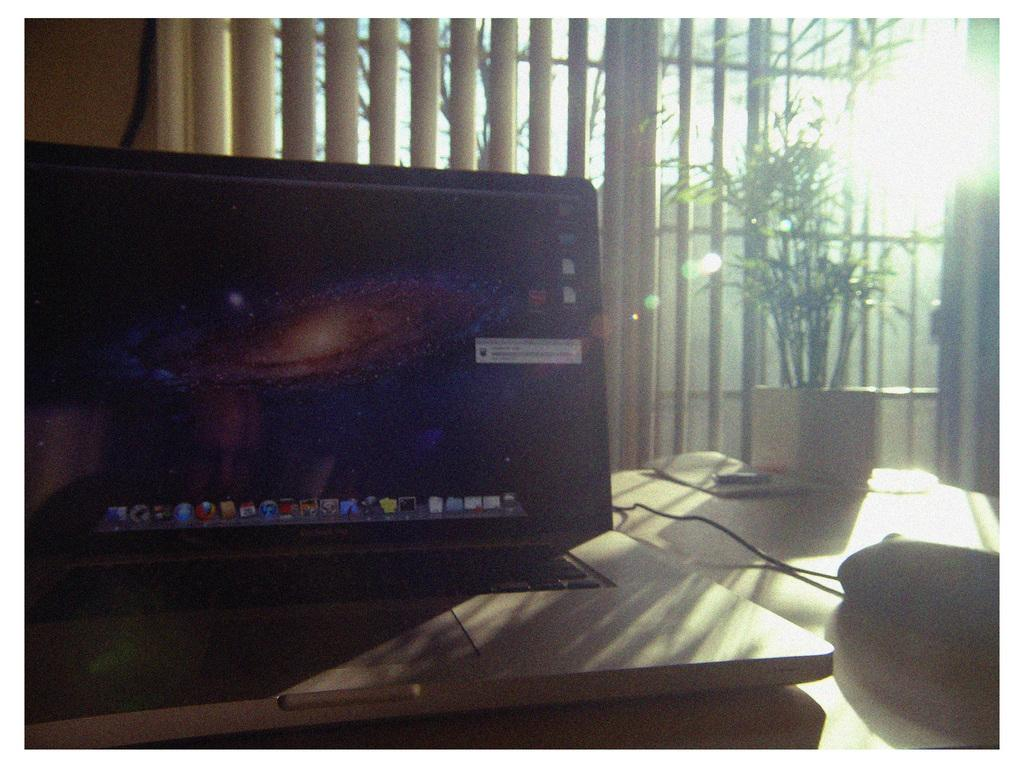Computer-monitor: (24, 136, 617, 585)
Laptop: (4, 124, 695, 676)
